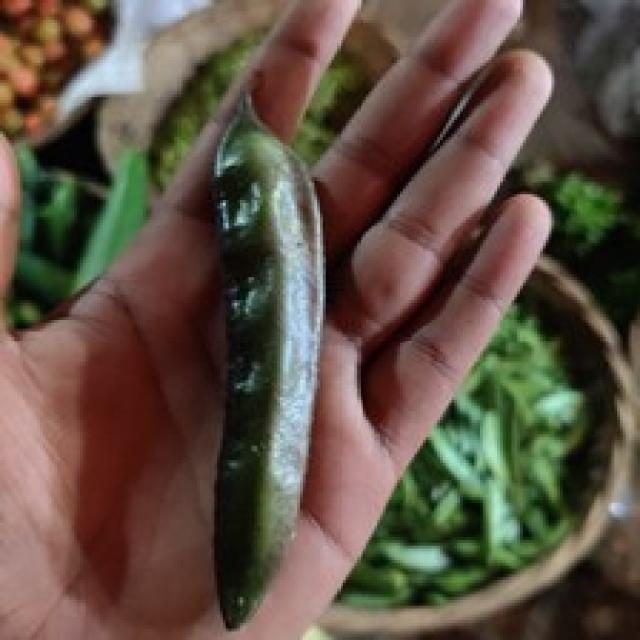Bean: (206, 89, 326, 628)
